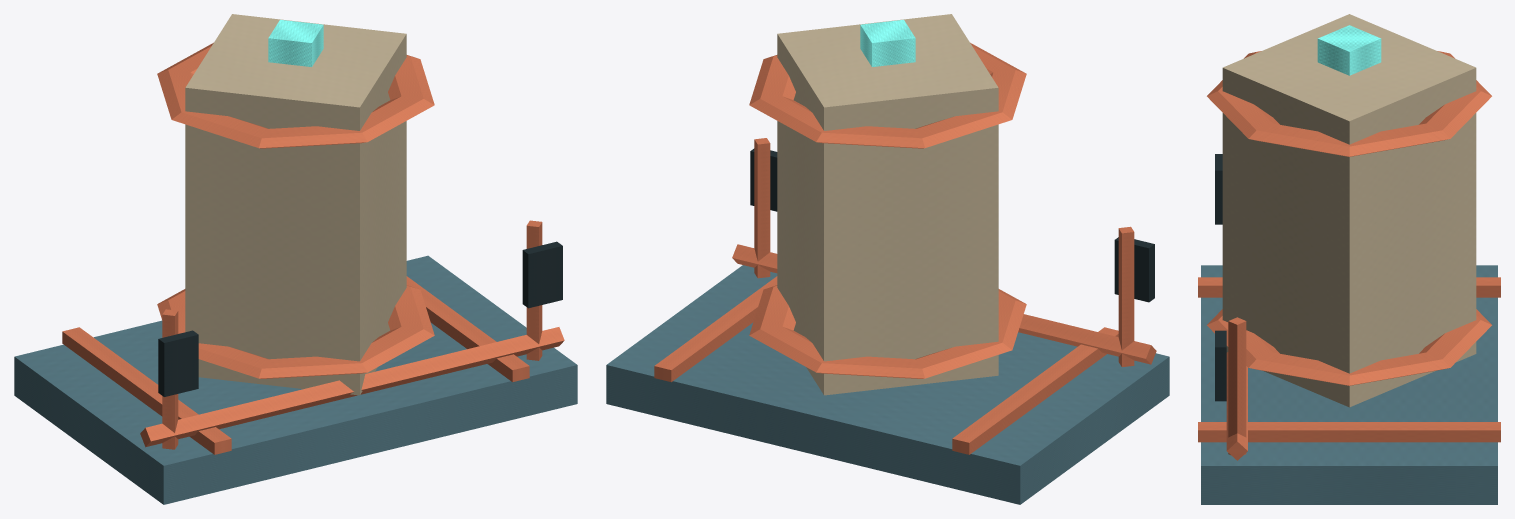
The model's file is atlas100-s050-a01.lod2.glb.
3 renders of one model, left to right at view 1: azimuth 30°, elevation 25°; view 2: azimuth 150°, elevation 25°; view 3: azimuth 270°, elevation 25°, orthographic.
Visible parts, largest first — view 1: atlas100-s050-a01:part-003, atlas100-s050-a01:part-000, atlas100-s050-a01:part-005, atlas100-s050-a01:part-011, atlas100-s050-a01:part-004, atlas100-s050-a01:part-001, atlas100-s050-a01:part-002, atlas100-s050-a01:part-010, atlas100-s050-a01:part-008, atlas100-s050-a01:part-006, atlas100-s050-a01:part-007, atlas100-s050-a01:part-009; view 2: atlas100-s050-a01:part-003, atlas100-s050-a01:part-000, atlas100-s050-a01:part-005, atlas100-s050-a01:part-004, atlas100-s050-a01:part-001, atlas100-s050-a01:part-011, atlas100-s050-a01:part-002, atlas100-s050-a01:part-006, atlas100-s050-a01:part-009, atlas100-s050-a01:part-007, atlas100-s050-a01:part-008, atlas100-s050-a01:part-010; view 3: atlas100-s050-a01:part-003, atlas100-s050-a01:part-000, atlas100-s050-a01:part-005, atlas100-s050-a01:part-004, atlas100-s050-a01:part-002, atlas100-s050-a01:part-006, atlas100-s050-a01:part-009, atlas100-s050-a01:part-001, atlas100-s050-a01:part-010, atlas100-s050-a01:part-011, atlas100-s050-a01:part-008.
Boxes of the visible parts, left/top/right/bottom form: atlas100-s050-a01:part-003: left=185, top=14, right=406, bottom=395; atlas100-s050-a01:part-000: left=14, top=255, right=577, bottom=504; atlas100-s050-a01:part-005: left=157, top=42, right=434, bottom=148; atlas100-s050-a01:part-011: left=140, top=327, right=564, bottom=447; atlas100-s050-a01:part-004: left=157, top=285, right=434, bottom=378; atlas100-s050-a01:part-001: left=62, top=327, right=231, bottom=454; atlas100-s050-a01:part-002: left=406, top=276, right=529, bottom=382; atlas100-s050-a01:part-010: left=522, top=241, right=562, bottom=308; atlas100-s050-a01:part-008: left=158, top=330, right=198, bottom=396; atlas100-s050-a01:part-006: left=268, top=19, right=323, bottom=66; atlas100-s050-a01:part-007: left=162, top=309, right=178, bottom=449; atlas100-s050-a01:part-009: left=526, top=220, right=542, bottom=360; atlas100-s050-a01:part-003: left=777, top=14, right=998, bottom=395; atlas100-s050-a01:part-000: left=606, top=265, right=1169, bottom=504; atlas100-s050-a01:part-005: left=749, top=42, right=1026, bottom=148; atlas100-s050-a01:part-004: left=749, top=285, right=1026, bottom=378; atlas100-s050-a01:part-001: left=952, top=327, right=1118, bottom=454; atlas100-s050-a01:part-011: left=732, top=244, right=1156, bottom=364; atlas100-s050-a01:part-002: left=654, top=276, right=777, bottom=382; atlas100-s050-a01:part-006: left=860, top=19, right=915, bottom=66; atlas100-s050-a01:part-009: left=754, top=138, right=770, bottom=278; atlas100-s050-a01:part-007: left=1118, top=226, right=1134, bottom=367; atlas100-s050-a01:part-008: left=1114, top=237, right=1154, bottom=302; atlas100-s050-a01:part-010: left=750, top=148, right=777, bottom=211; atlas100-s050-a01:part-003: left=1222, top=14, right=1476, bottom=407; atlas100-s050-a01:part-000: left=1201, top=265, right=1497, bottom=504; atlas100-s050-a01:part-005: left=1207, top=51, right=1491, bottom=156; atlas100-s050-a01:part-004: left=1207, top=309, right=1491, bottom=385; atlas100-s050-a01:part-002: left=1198, top=422, right=1500, bottom=442; atlas100-s050-a01:part-006: left=1317, top=25, right=1381, bottom=75; atlas100-s050-a01:part-009: left=1228, top=317, right=1246, bottom=454; atlas100-s050-a01:part-001: left=1198, top=277, right=1500, bottom=297; atlas100-s050-a01:part-010: left=1215, top=330, right=1226, bottom=401; atlas100-s050-a01:part-011: left=1226, top=352, right=1247, bottom=460; atlas100-s050-a01:part-008: left=1215, top=154, right=1222, bottom=224.
Size of the model in its own units: 2.88 by 2.45 by 1.84.
5 materials, 5 textured.
